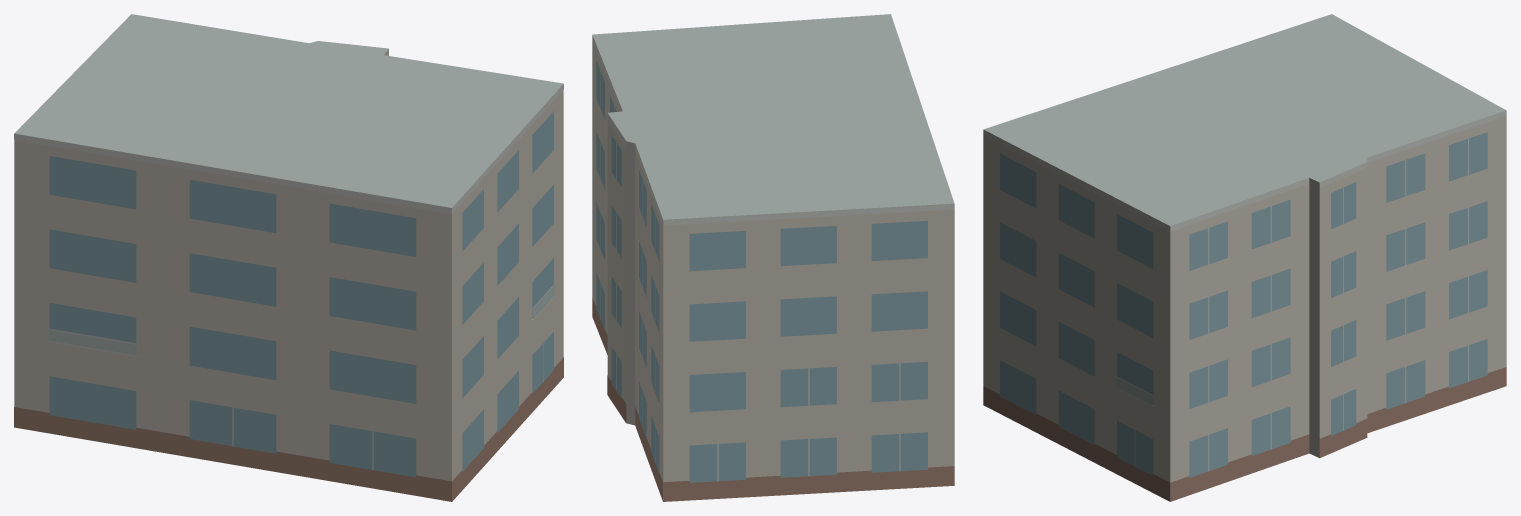
The model's file is survey-upis-32470660.glb.
The picture shows the model from 3 angles, left to right: view 1: azimuth 30°, elevation 25°; view 2: azimuth 150°, elevation 25°; view 3: azimuth 270°, elevation 25°; orthographic projection. The views are drawn at different scales.
Parts seen in each view (by area): view 1: survey-upis-32470660.tmp; view 2: survey-upis-32470660.tmp; view 3: survey-upis-32470660.tmp.
Boxes of the visible parts, left/top/right/bottom form: survey-upis-32470660.tmp: left=14, top=14, right=563, bottom=501; survey-upis-32470660.tmp: left=592, top=14, right=954, bottom=501; survey-upis-32470660.tmp: left=983, top=14, right=1506, bottom=501.
Bounding box in the file's own units: 19.33 × 11.71 × 20.15.
